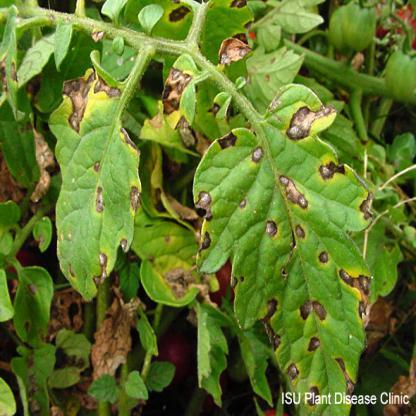Tomato leaf late blight: (180, 93, 376, 392), (40, 49, 148, 332), (122, 203, 213, 318), (152, 45, 218, 132)
